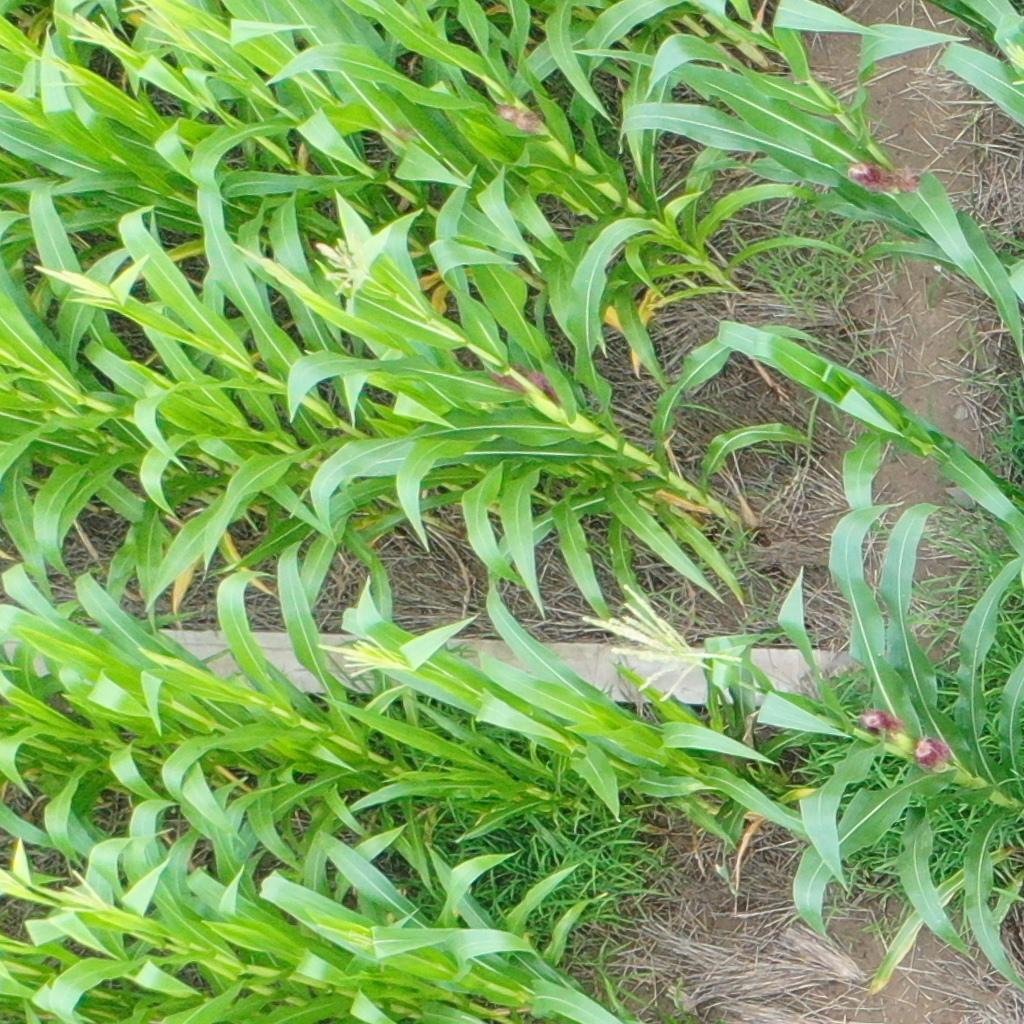Tassel: (577, 582, 748, 705), (309, 633, 413, 678), (124, 1, 199, 56), (31, 260, 119, 305), (65, 12, 141, 60), (314, 237, 375, 295), (231, 242, 297, 290), (20, 48, 86, 90), (61, 869, 110, 916), (317, 920, 379, 952), (139, 647, 193, 675), (1001, 37, 1024, 72)
